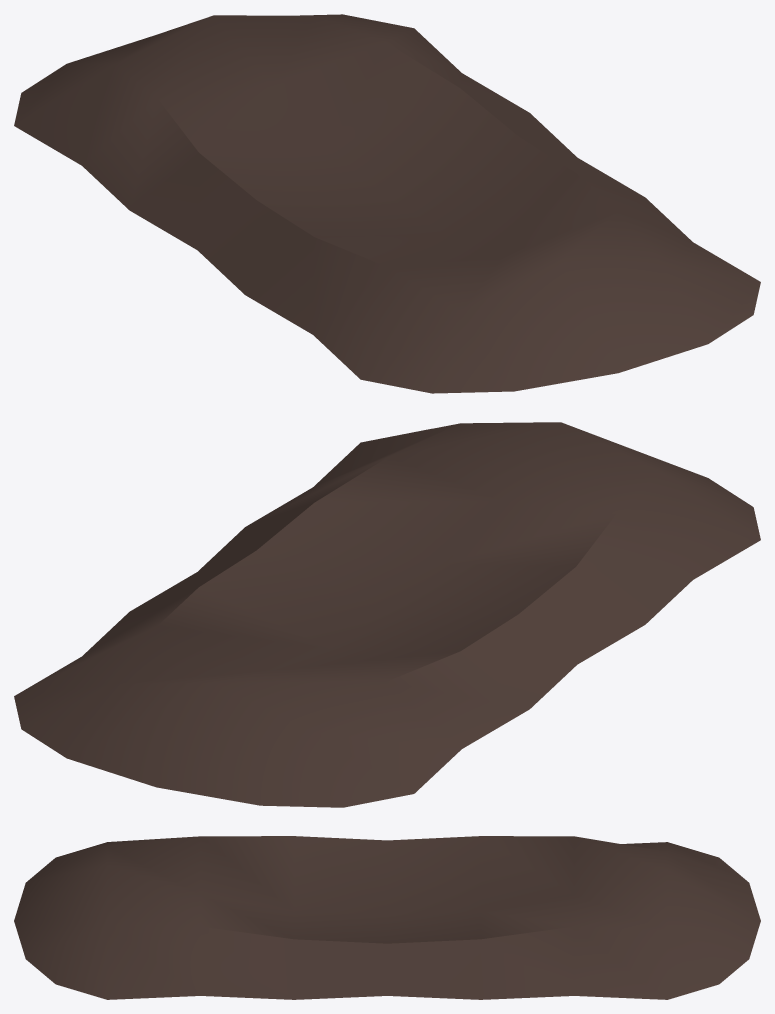
Rendered from grave_004.fbx.
3 renders of one model, top to bottom at view 1: azimuth 30°, elevation 25°; view 2: azimuth 150°, elevation 25°; view 3: azimuth 270°, elevation 25°, orthographic. The views are drawn at different scales.
Visible parts, largest first — view 1: grave.004; view 2: grave.004; view 3: grave.004.
Part boxes in pixels (box(x1,y1,x2,y2)): grave.004: box(14, 14, 760, 393); grave.004: box(14, 422, 760, 807); grave.004: box(14, 836, 760, 999).
Size of the model in its own units: 100 by 16.51 by 200.
